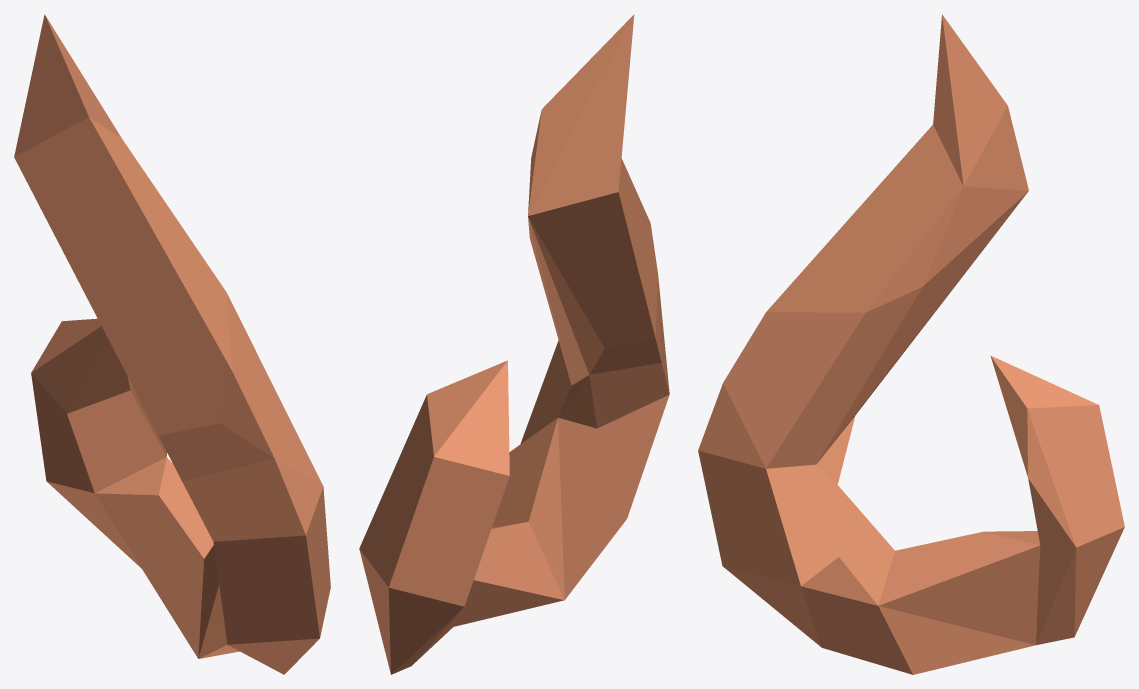
Rendered from Cristal.fbx.
The picture shows the model from 3 angles, left to right: view 1: azimuth 30°, elevation 25°; view 2: azimuth 150°, elevation 25°; view 3: azimuth 270°, elevation 25°; orthographic projection. The views are drawn at different scales.
Visible parts, largest first — view 1: Cube.001; view 2: Cube.001; view 3: Cube.001.
Boxes of the visible parts, x1=… form: Cube.001: x1=14, y1=14, x2=330, y2=674; Cube.001: x1=359, y1=14, x2=669, y2=674; Cube.001: x1=698, y1=14, x2=1124, y2=674.
Size of the model in its own units: 18.97 by 57.29 by 38.34.
